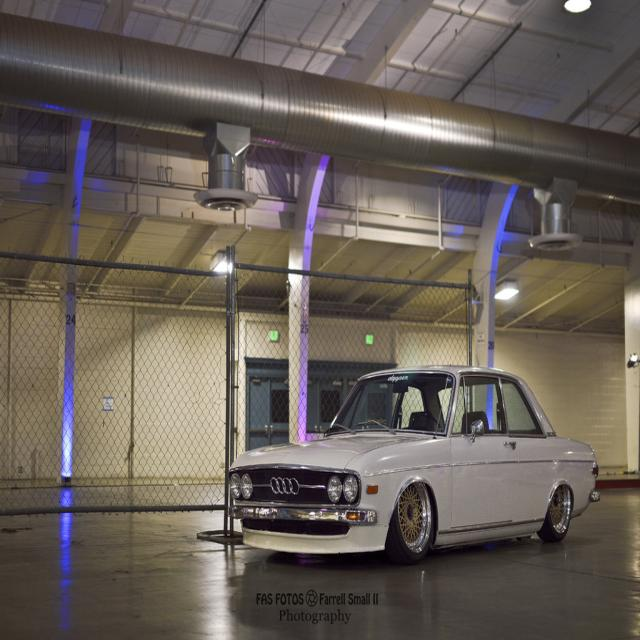car: (250, 370, 591, 569)
